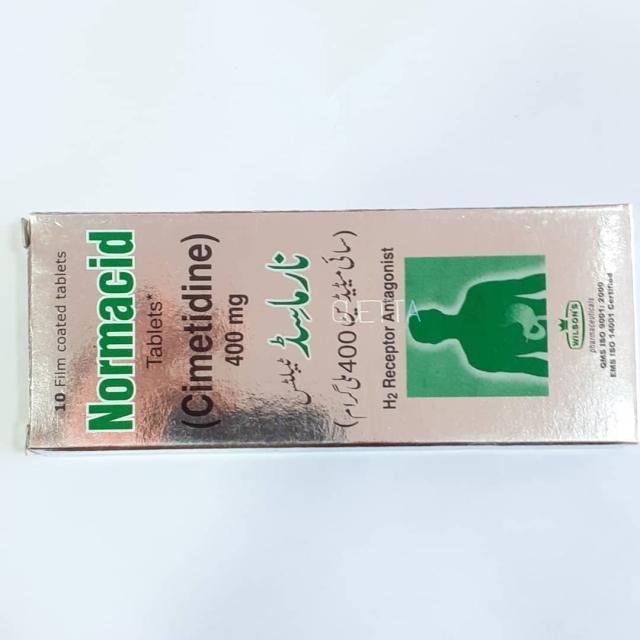drug-name: (78, 221, 138, 435)
